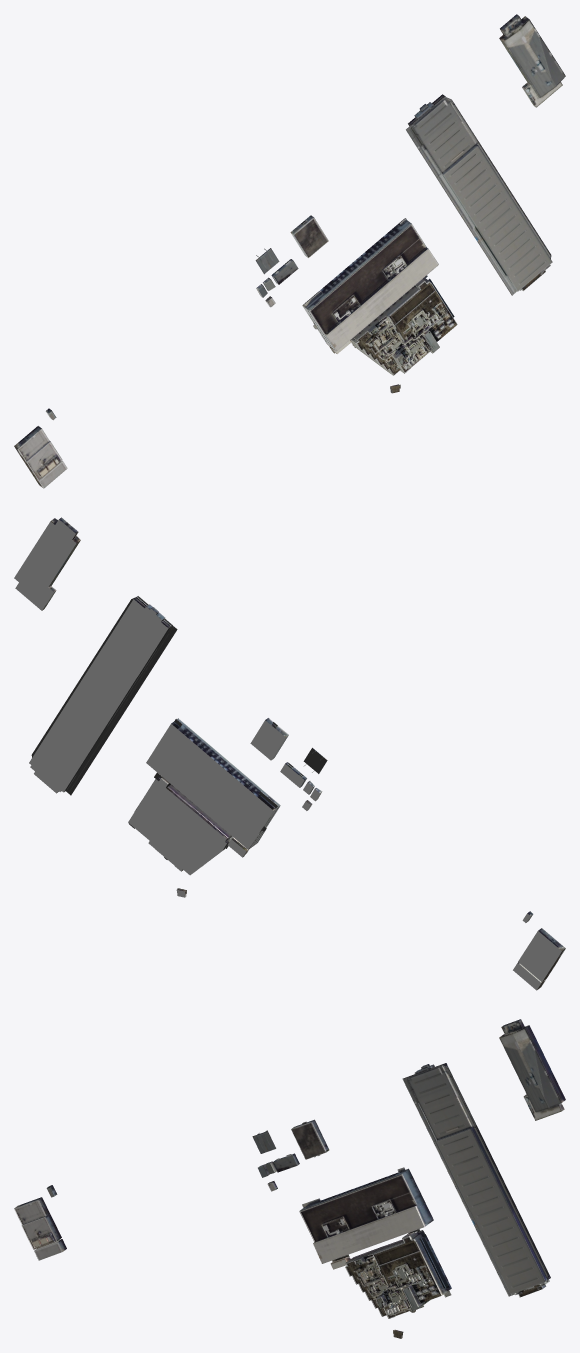
File: 53392672_bldg_6677.obj
The picture shows the model from 3 angles, top to bottom: view 1: azimuth 30°, elevation 25°; view 2: azimuth 150°, elevation 25°; view 3: azimuth 330°, elevation 25°; orthographic projection.
Bounding box in the file's own units: 445 × 276 × 18.23.
Materials: 15 (15 with a texture image).
